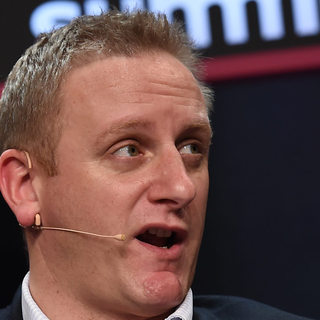eye: (97, 138, 154, 166), (169, 136, 209, 164)
